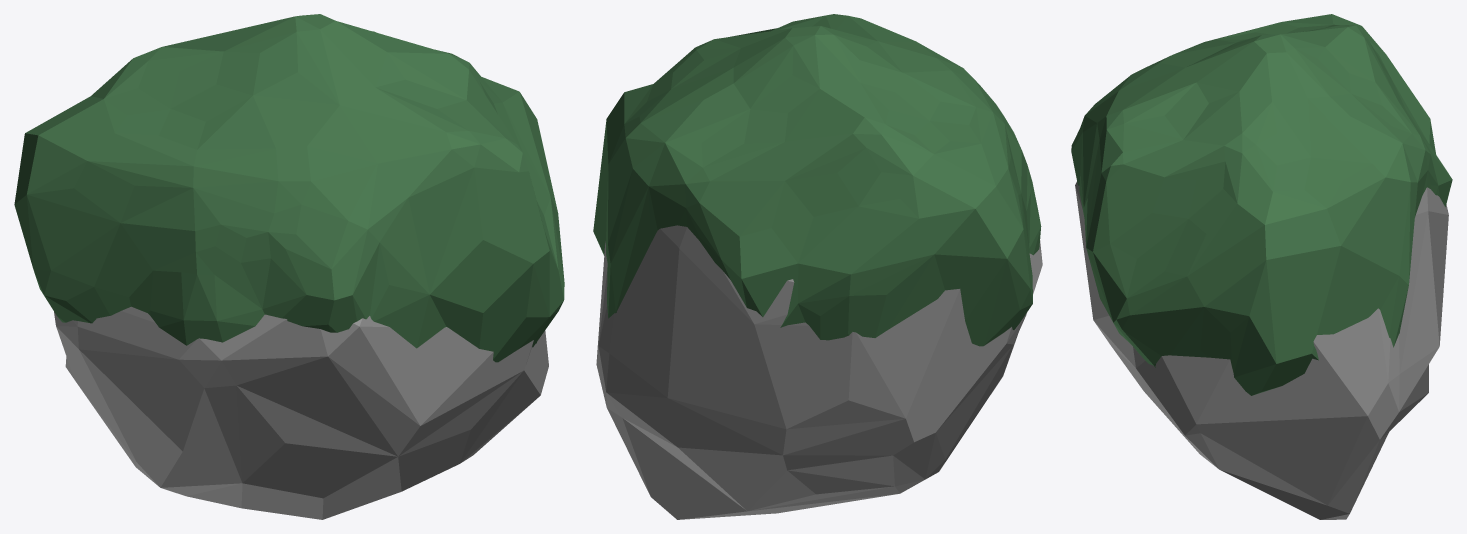
File: Rock_020.glb
The picture shows the model from 3 angles, left to right: view 1: azimuth 30°, elevation 25°; view 2: azimuth 150°, elevation 25°; view 3: azimuth 270°, elevation 25°; orthographic projection. The views are drawn at different scales.
Parts seen in each view (by area): view 1: Rock_020; view 2: Rock_020; view 3: Rock_020.
Part boxes in pixels (box(x1,y1,x2,y2)): Rock_020: box(14, 14, 564, 519); Rock_020: box(593, 14, 1042, 519); Rock_020: box(1071, 14, 1452, 519).
Bounding box in the file's own units: 1.29 × 1.32 × 1.04.
1 material, 1 textured.
